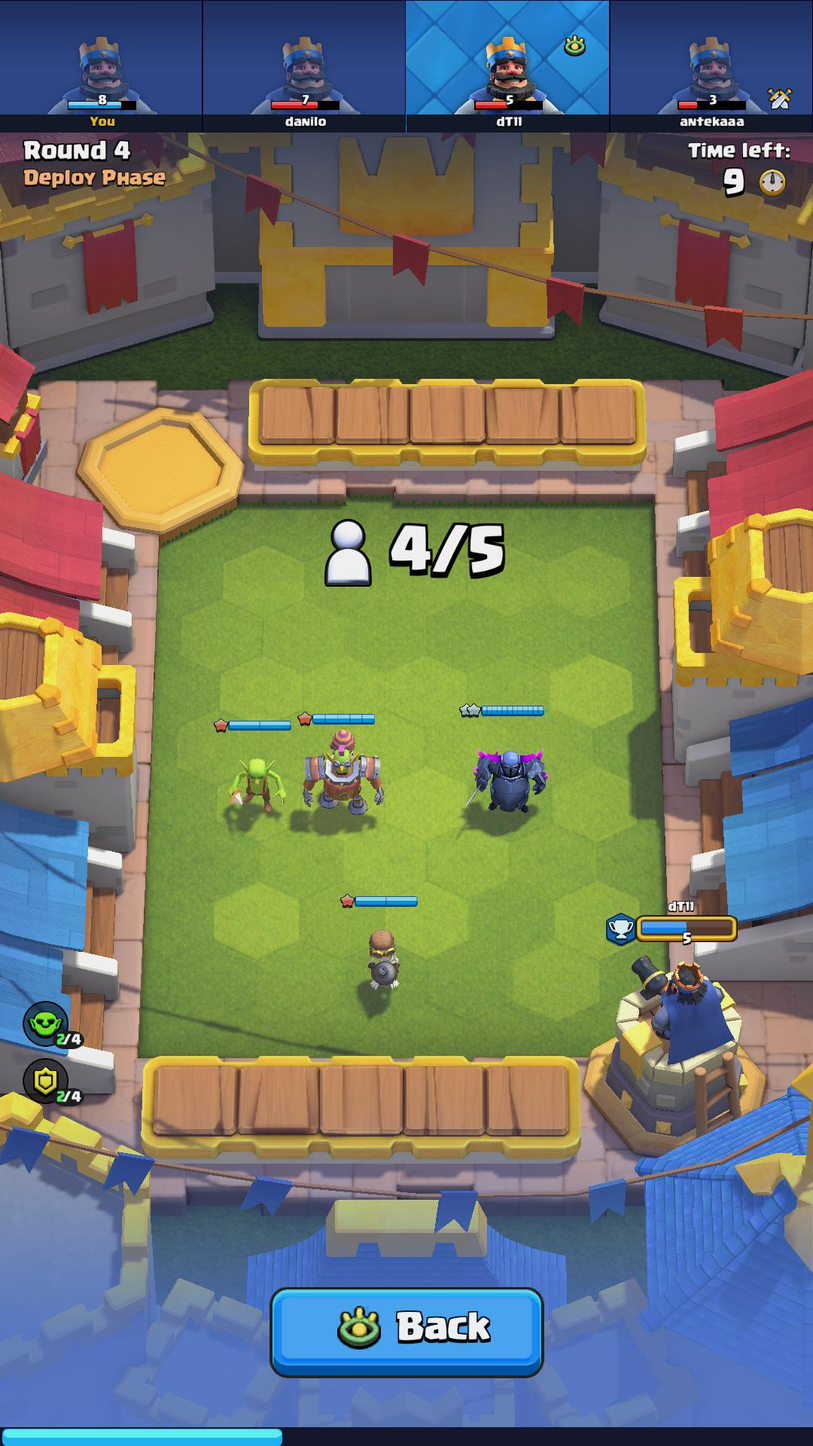bomber: (353, 919, 406, 991)
goblin: (216, 748, 291, 815)
machine: (299, 728, 390, 818)
pekka: (459, 738, 550, 818)
